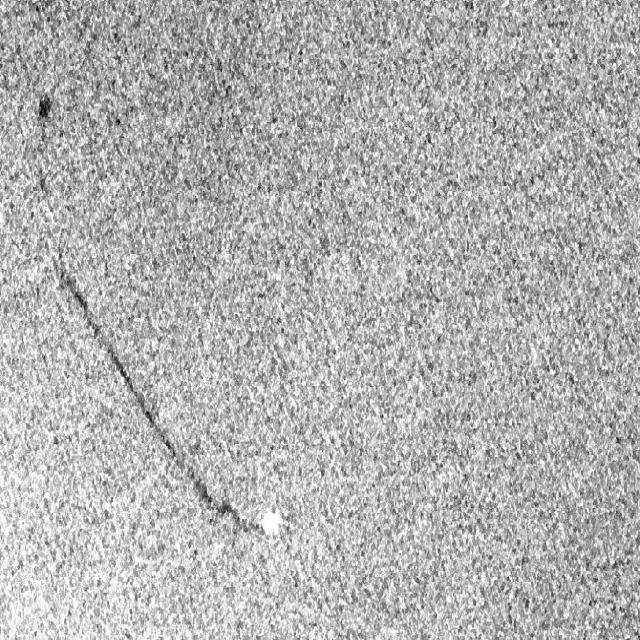oil-spill: (55, 258, 255, 542)
